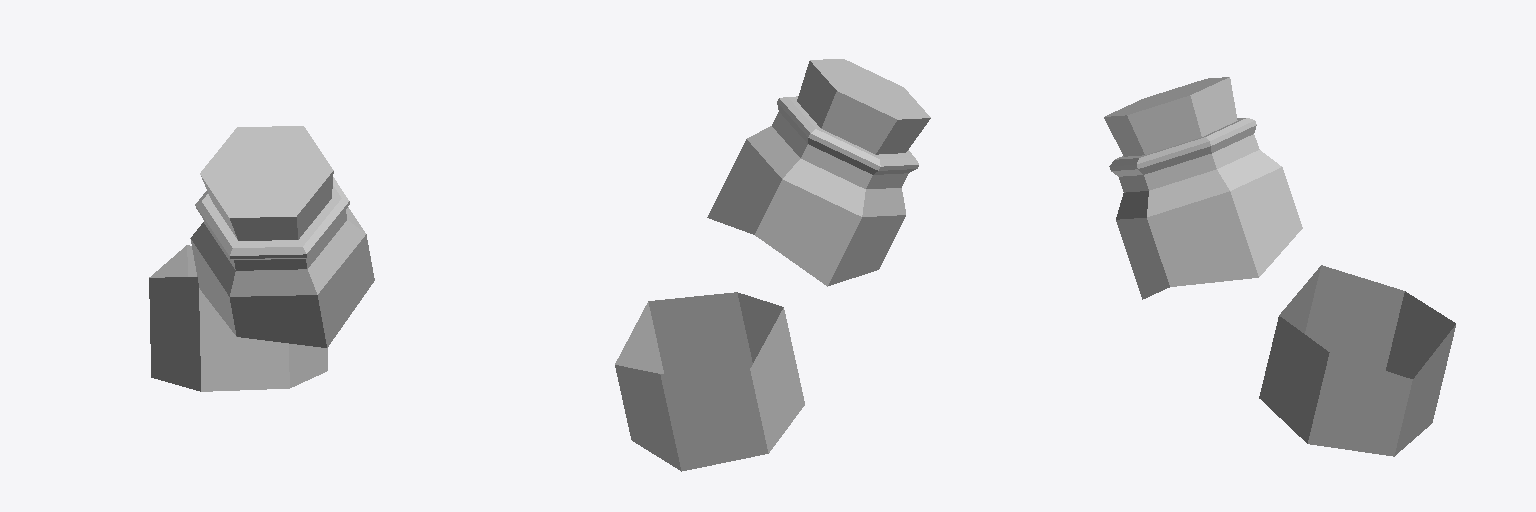
The model's file is vial.obj.
3 views of the same model, side by side, from view 1: azimuth 30°, elevation 25°; view 2: azimuth 150°, elevation 25°; view 3: azimuth 270°, elevation 25° (orthographic).
Visible parts, largest first — view 1: Circle; view 2: Circle; view 3: Circle.
Boxes of the visible parts, <box> form: Circle: <box>149,126,374,391</box>; Circle: <box>615,59,930,471</box>; Circle: <box>1104,77,1455,456</box>.
Size of the model in its own units: 2.47 by 4.03 by 3.98.